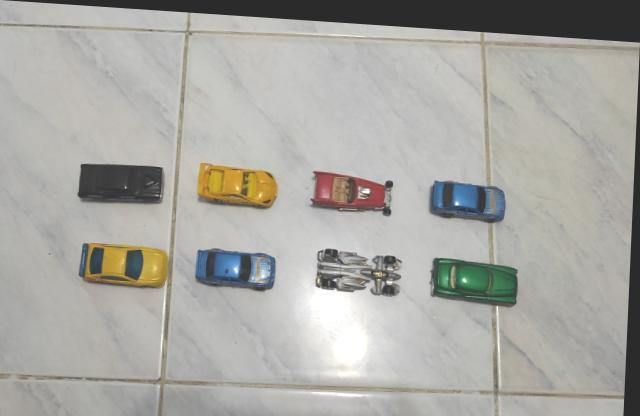01_FORD: (79, 163, 166, 204)
02_OZSOME: (83, 241, 171, 288)
03_V8: (312, 166, 396, 212)
04_MERZEDES: (197, 245, 280, 289), (431, 174, 510, 219)
05_DC121: (317, 243, 406, 293)
06_MASERATI: (433, 251, 523, 301)
07_RHLTURBO: (200, 160, 281, 207)
